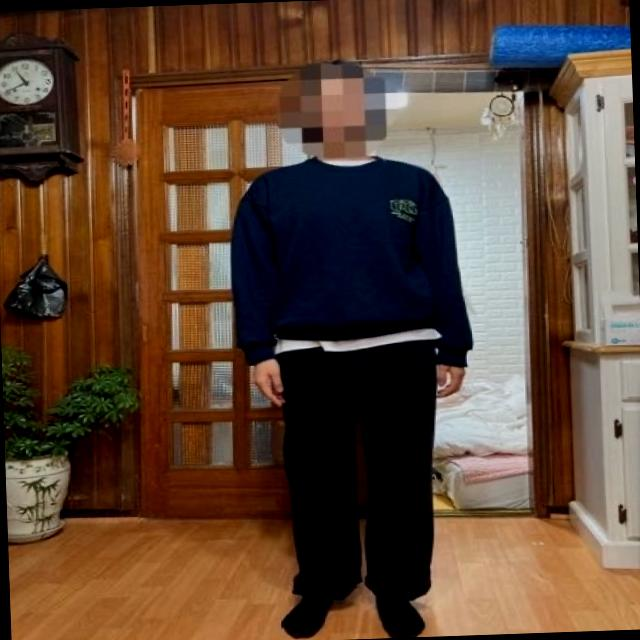denimpants: (280, 334, 447, 606)
mtm: (222, 146, 466, 374)
